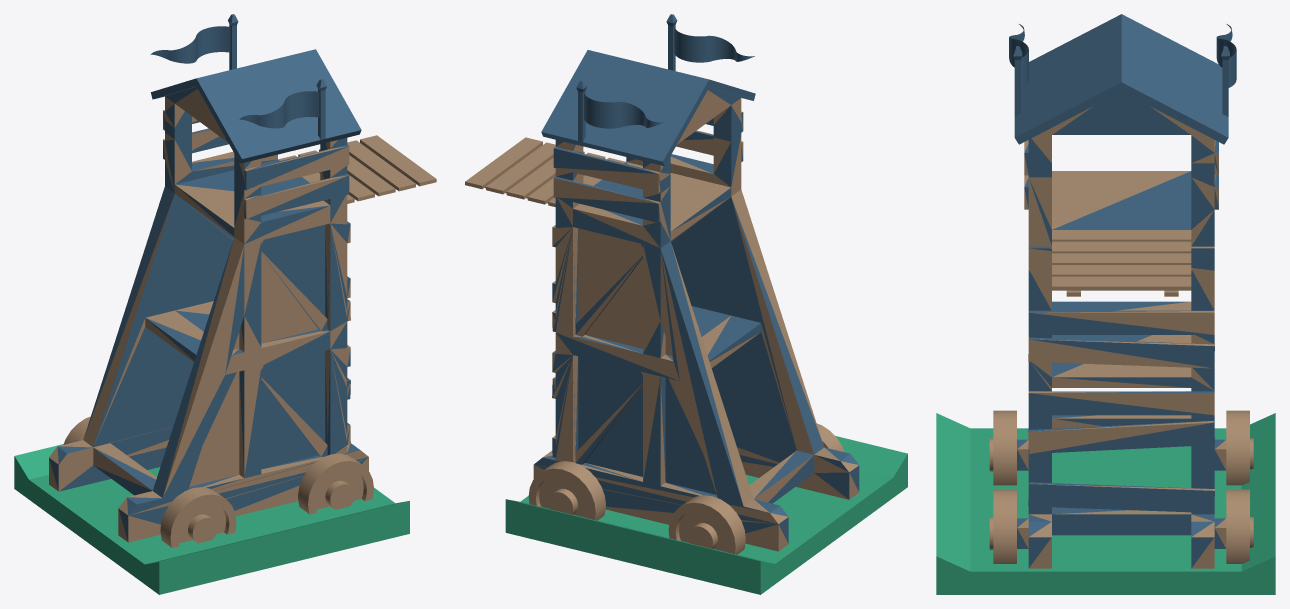
File: factory.glb
The picture shows the model from 3 angles, left to right: view 1: azimuth 30°, elevation 25°; view 2: azimuth 150°, elevation 25°; view 3: azimuth 270°, elevation 25°; orthographic projection. The views are drawn at different scales.
Size of the model in its own units: 17.11 by 22.08 by 13.
